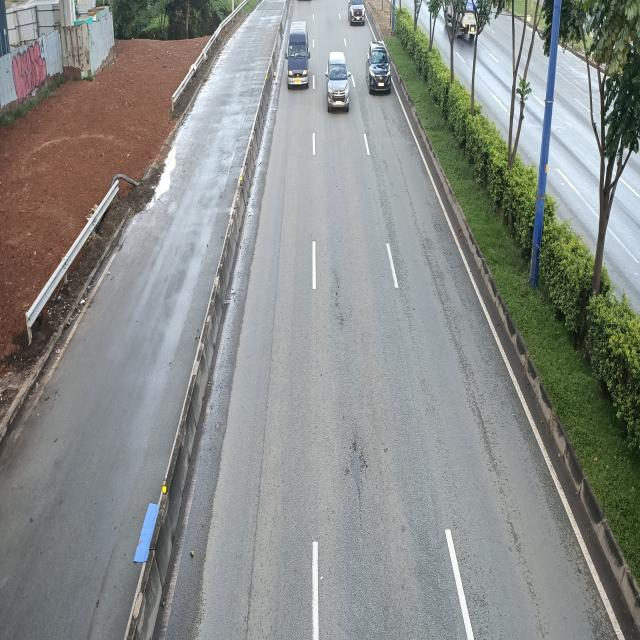car: (285, 21, 312, 89), (324, 51, 350, 112), (365, 42, 391, 95)
